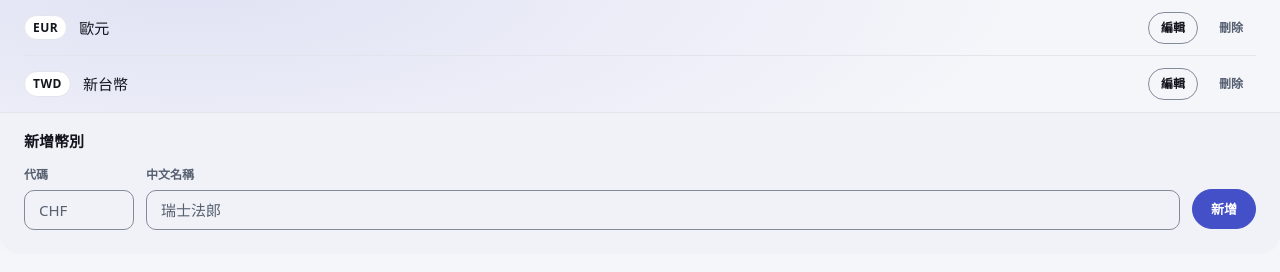
CurrencyManager (AC11 frontend) › renames a currency
Click the button with aria-label "編輯 TWD": (1173, 84) [1148, 68, 1198, 100]
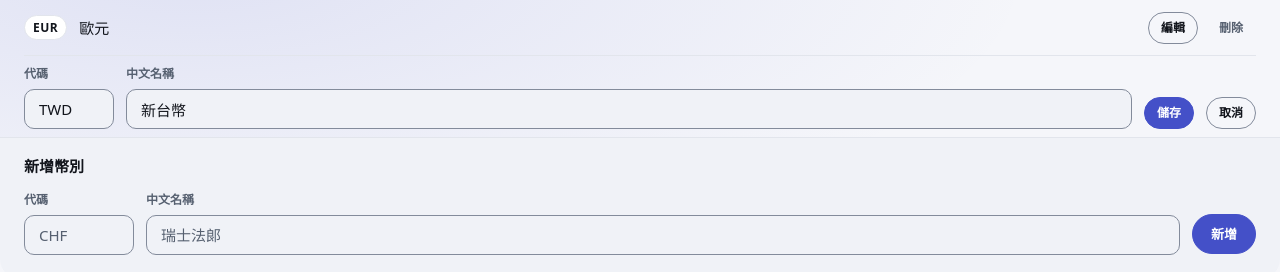
Replace the text in the field labelled "中文名稱" below "歐元" with "台幣": (629, 109) [126, 89, 1132, 129]
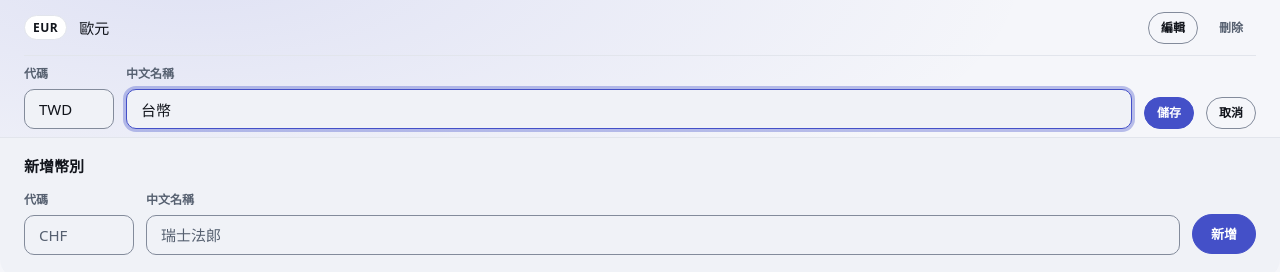
Click the button "儲存": (1169, 113) [1144, 97, 1194, 129]
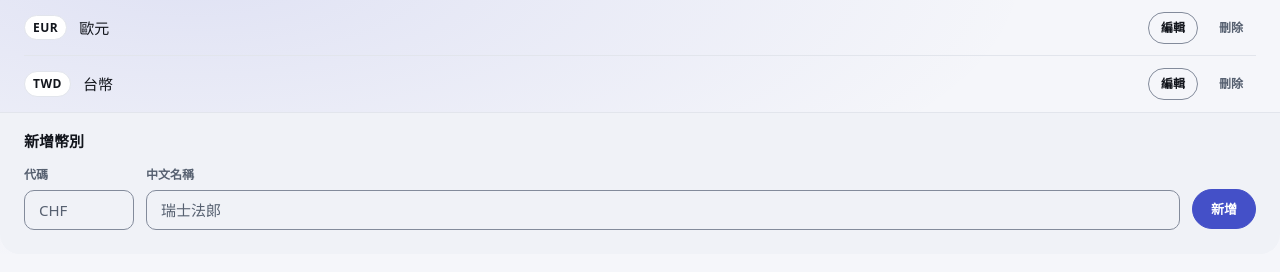
Now the text "台幣" is shown, box [83, 72, 113, 96]
